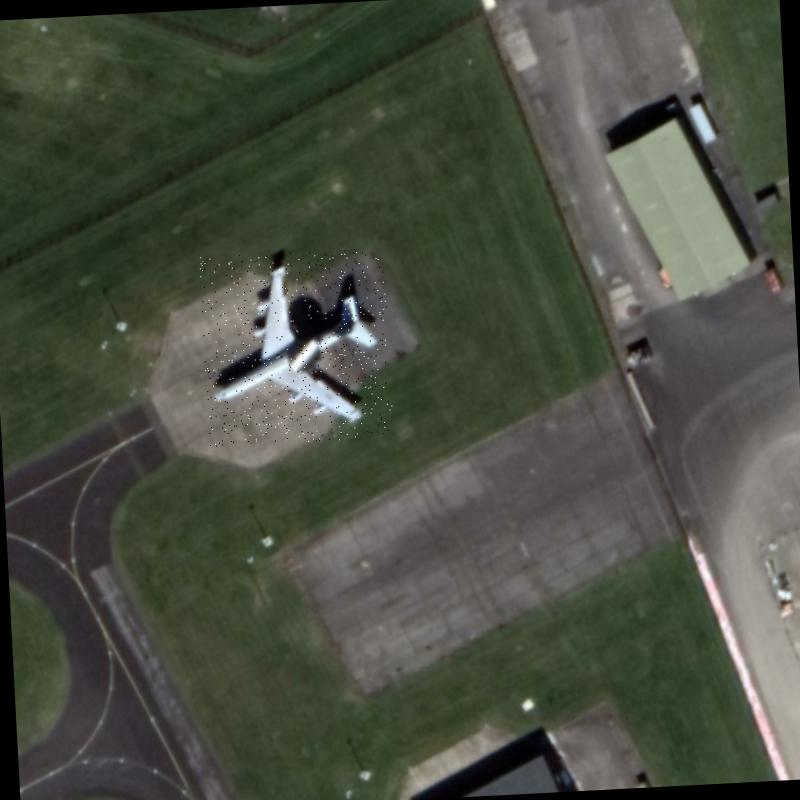A7: (199, 248, 394, 447)
